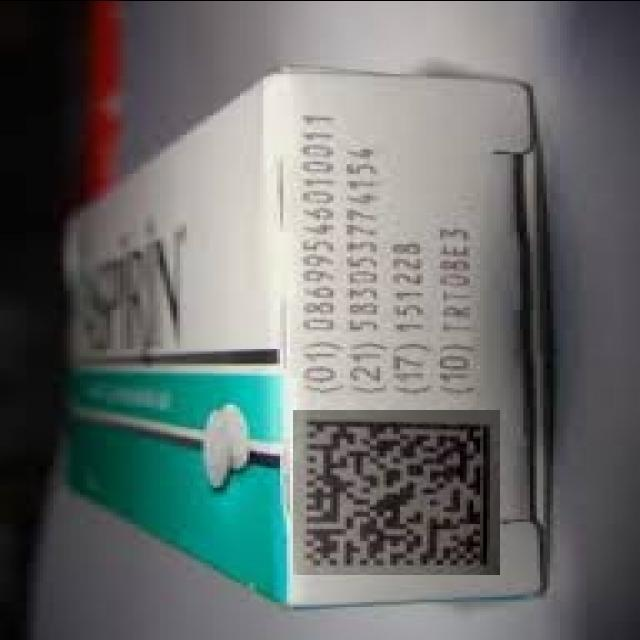Data-Matrix: (293, 409, 500, 574)
